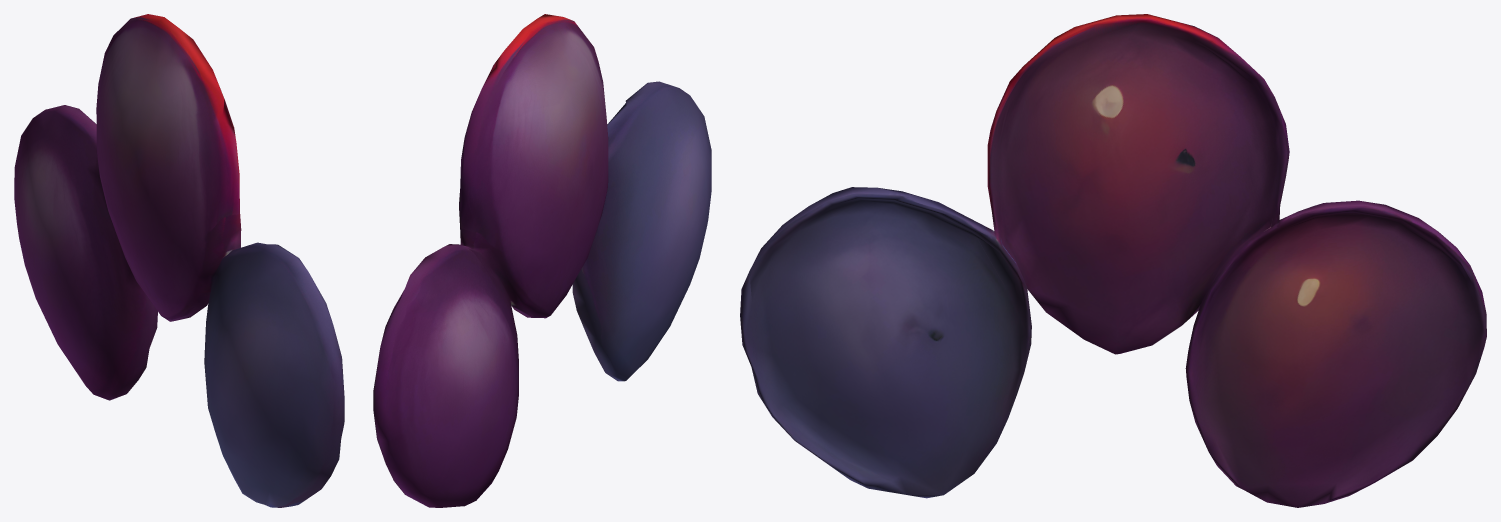
The model's file is Blobos.obj.
3 renders of one model, left to right at view 1: azimuth 30°, elevation 25°; view 2: azimuth 150°, elevation 25°; view 3: azimuth 270°, elevation 25°, orthographic. The views are drawn at different scales.
Visible parts, largest first — view 1: tripo_node_44b73d44-d6da-4c6d-8d08-37dee8e24872; view 2: tripo_node_44b73d44-d6da-4c6d-8d08-37dee8e24872; view 3: tripo_node_44b73d44-d6da-4c6d-8d08-37dee8e24872.
Boxes of the visible parts, x1,y1,x2,y2 form: tripo_node_44b73d44-d6da-4c6d-8d08-37dee8e24872: [14, 14, 344, 507]; tripo_node_44b73d44-d6da-4c6d-8d08-37dee8e24872: [373, 14, 711, 507]; tripo_node_44b73d44-d6da-4c6d-8d08-37dee8e24872: [740, 14, 1486, 507].
Size of the model in its own units: 0.1065 by 0.7266 by 1.
1 material, 1 textured.
